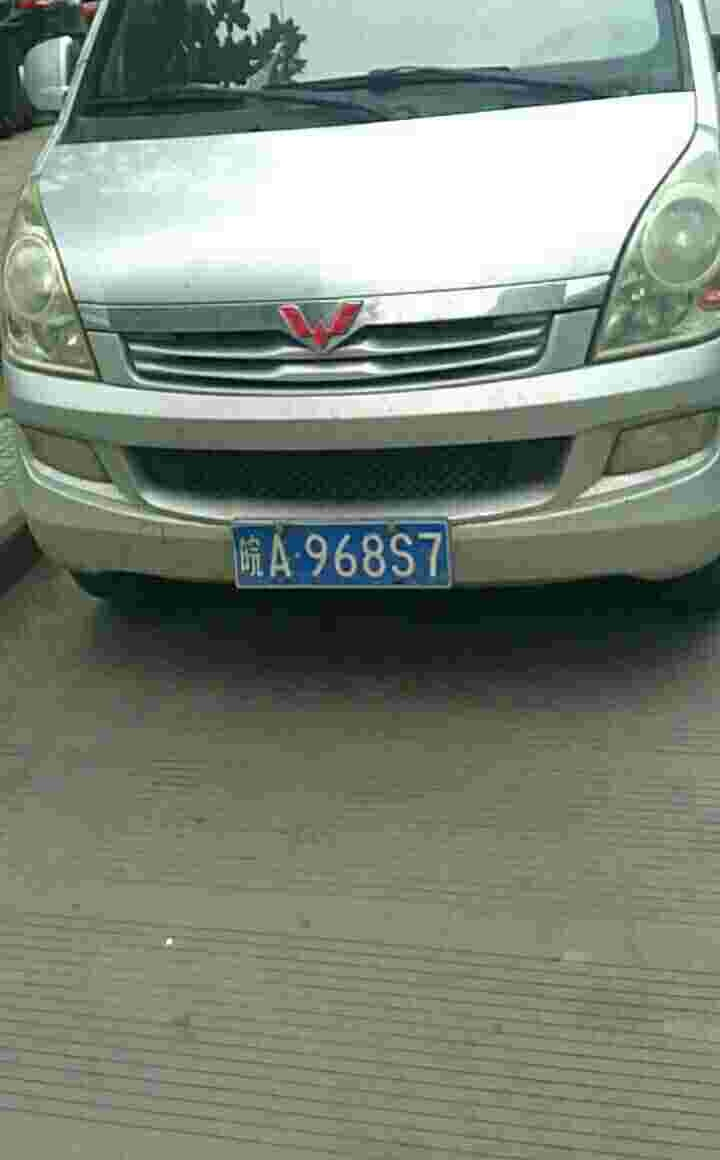license_plate: (218, 525, 446, 591)
